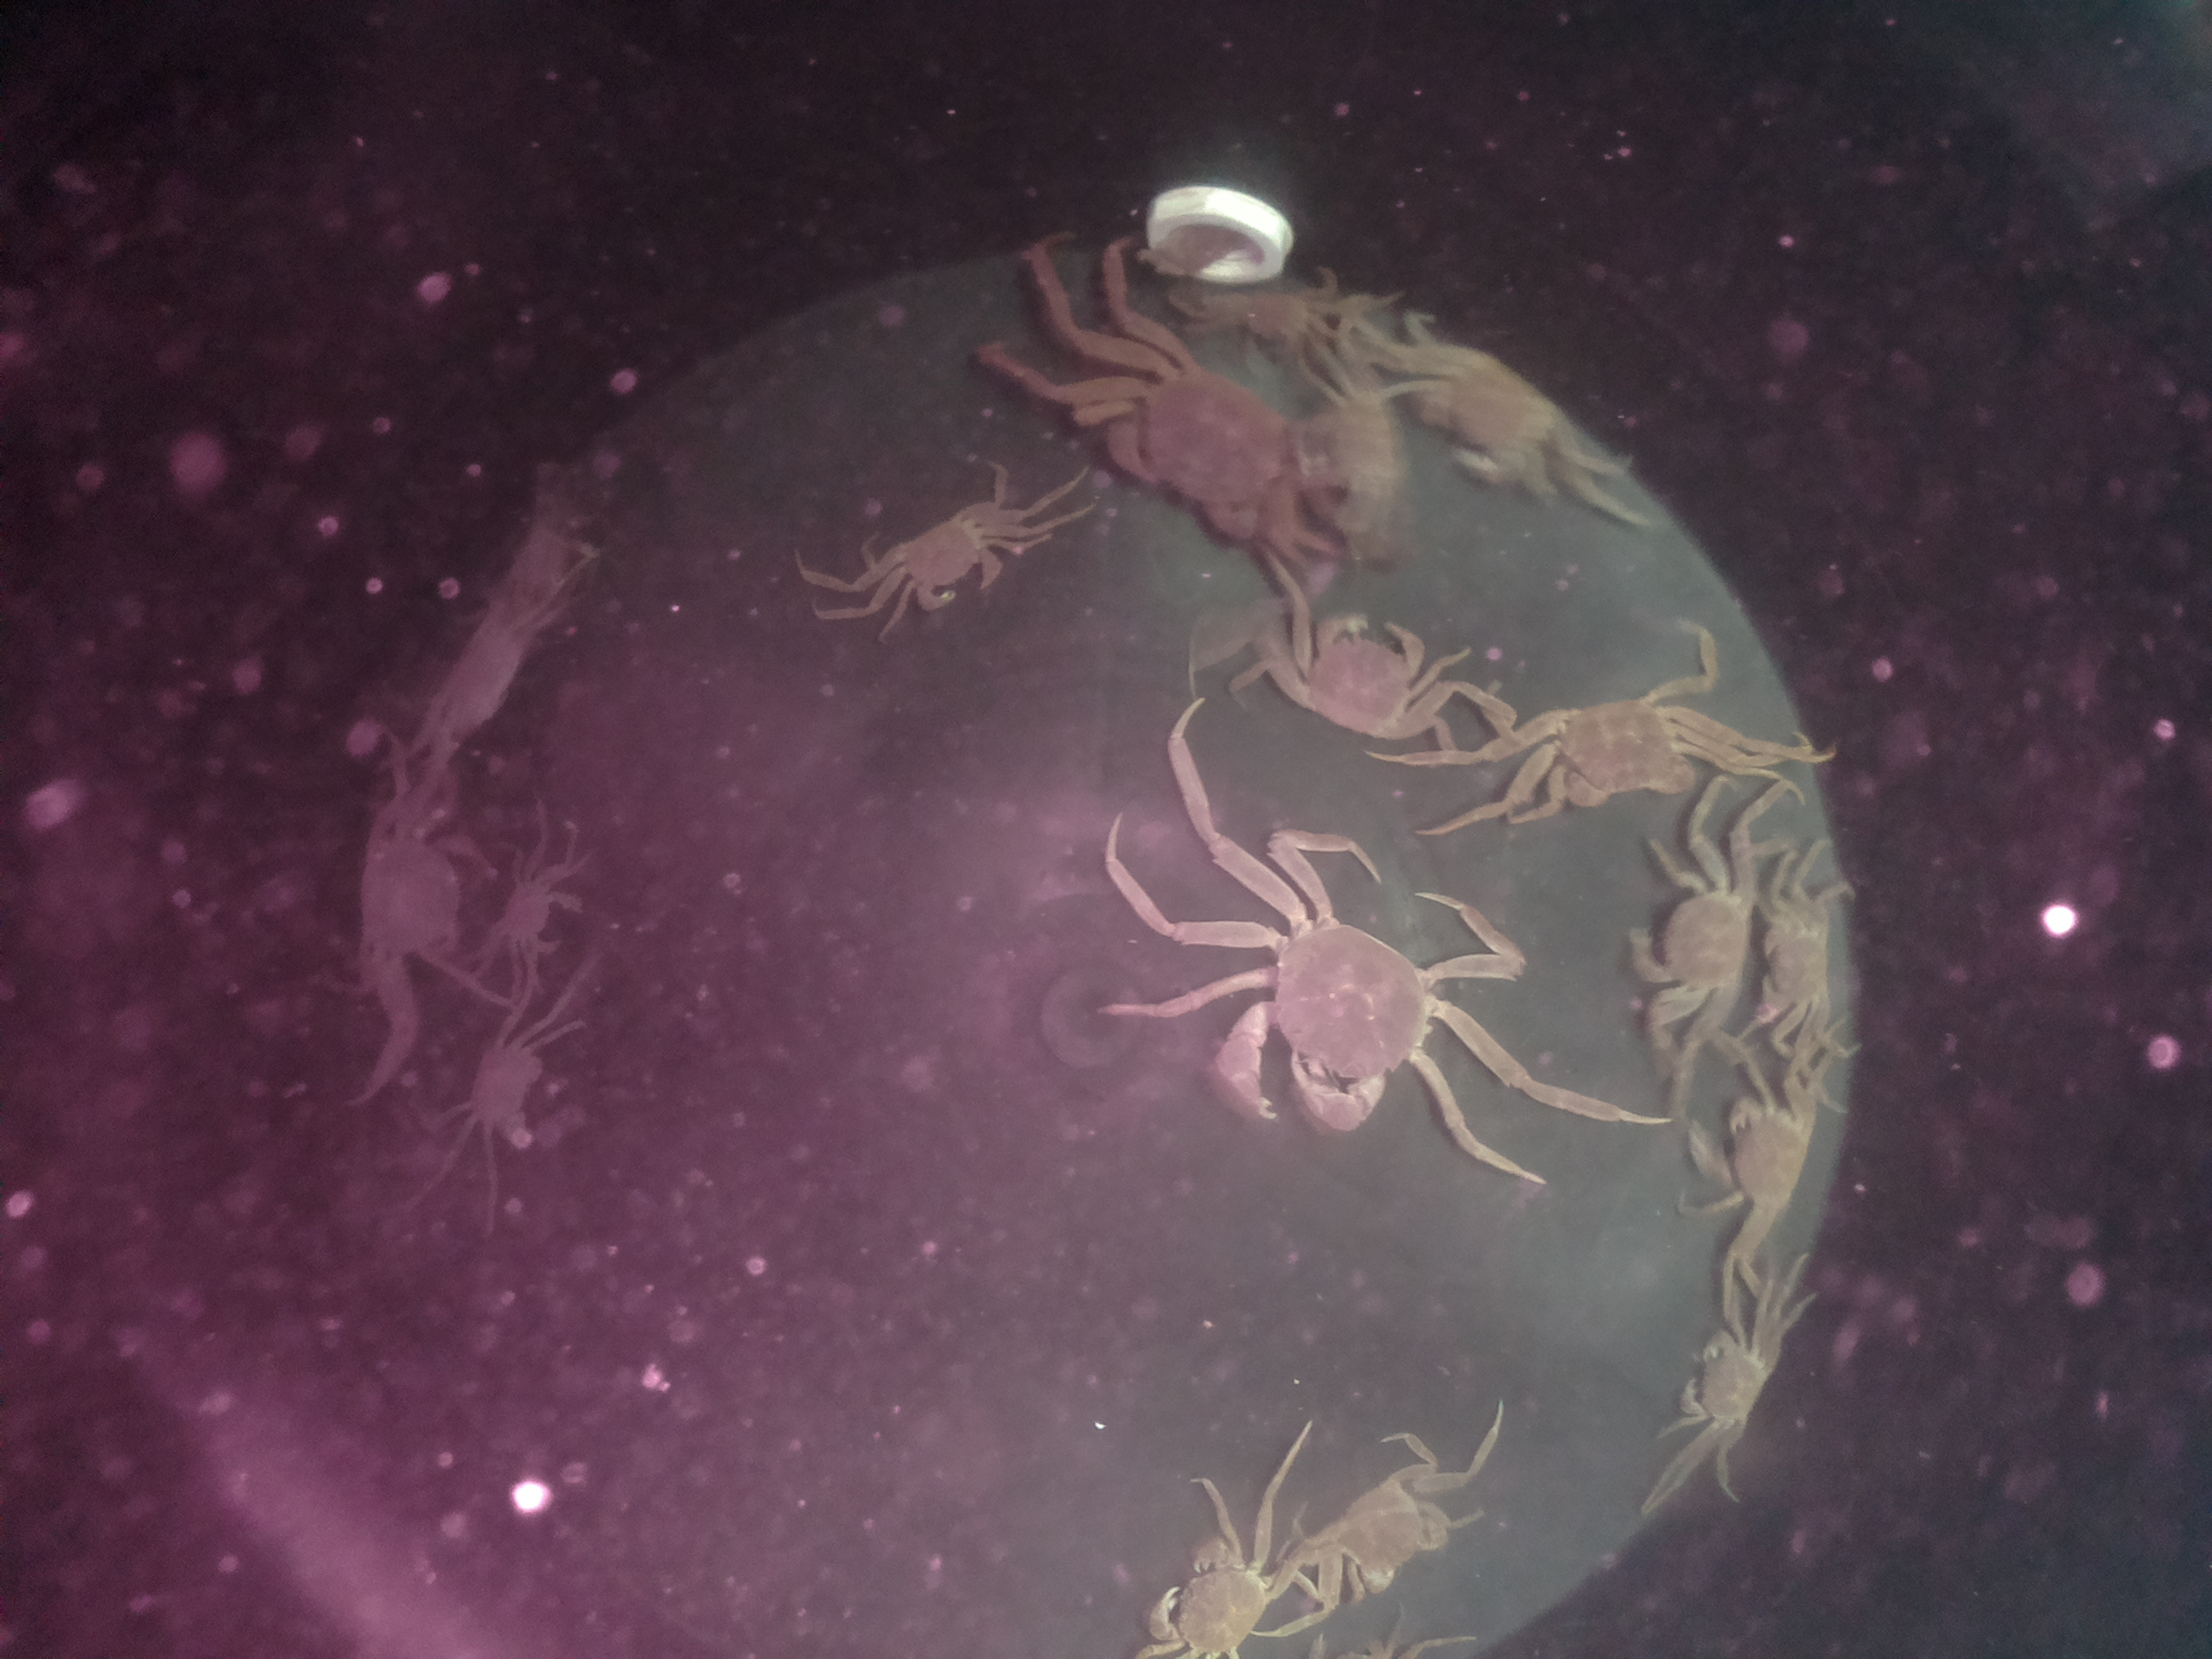Crab: (1184, 894, 1463, 1138), (1608, 835, 1773, 1033), (1268, 596, 1447, 751), (1533, 673, 1705, 831), (1136, 1504, 1285, 1659), (876, 490, 1019, 631), (1754, 871, 1869, 1044), (1651, 1316, 1787, 1457), (488, 859, 597, 972)
